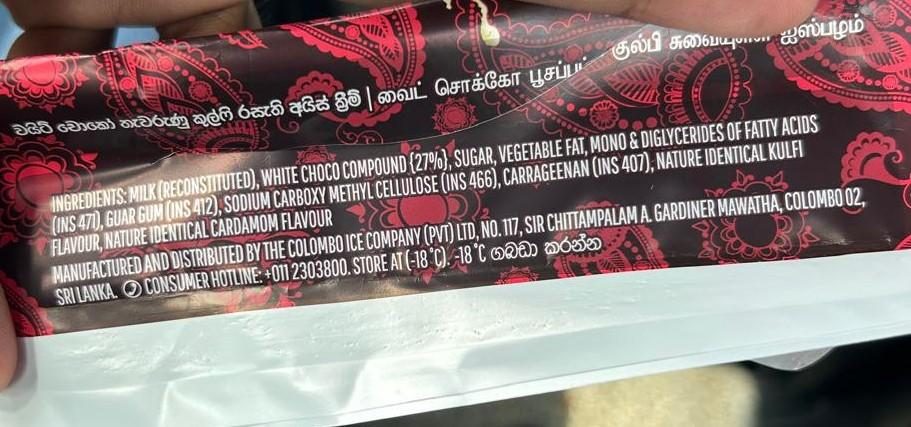ingredients: (37, 113, 877, 300)
